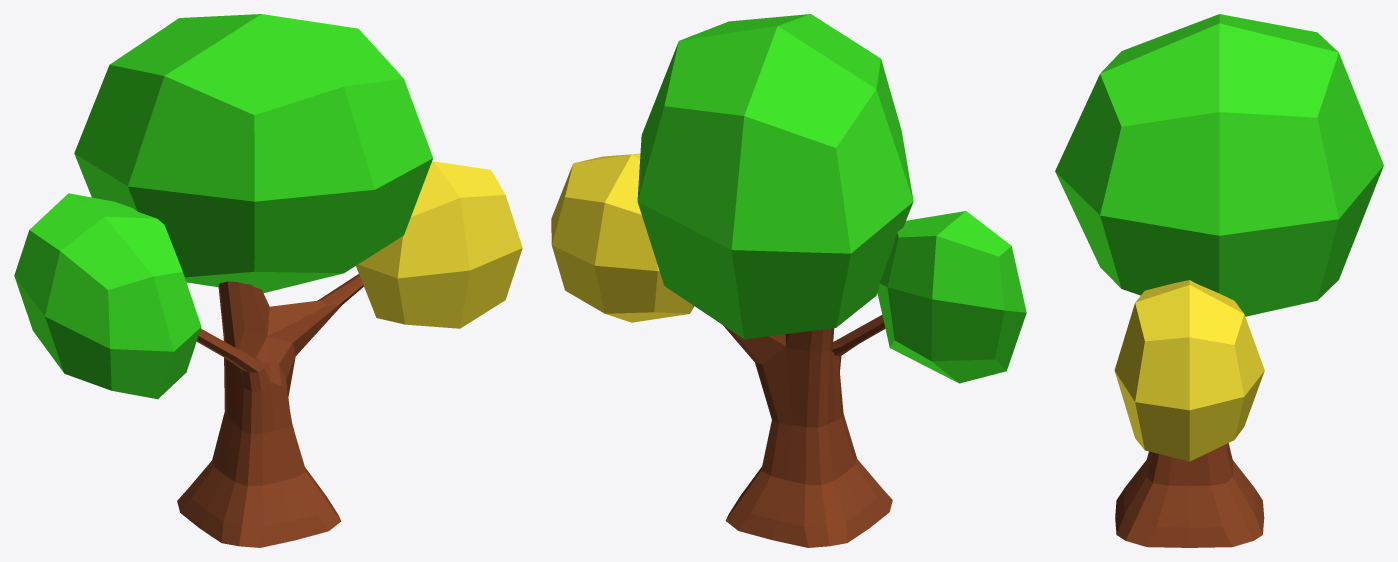
File: Tree4.glb
The picture shows the model from 3 angles, left to right: view 1: azimuth 30°, elevation 25°; view 2: azimuth 150°, elevation 25°; view 3: azimuth 270°, elevation 25°; orthographic projection. The views are drawn at different scales.
Visible parts, largest first — view 1: tree 3; view 2: tree 3; view 3: tree 3.
Boxes of the visible parts, box(x1,y1,x2,y2) form: tree 3: box(14, 14, 522, 547); tree 3: box(551, 14, 1026, 547); tree 3: box(1055, 14, 1383, 547).
Bounding box in the file's own units: 6.3 × 6.2 × 3.67.
